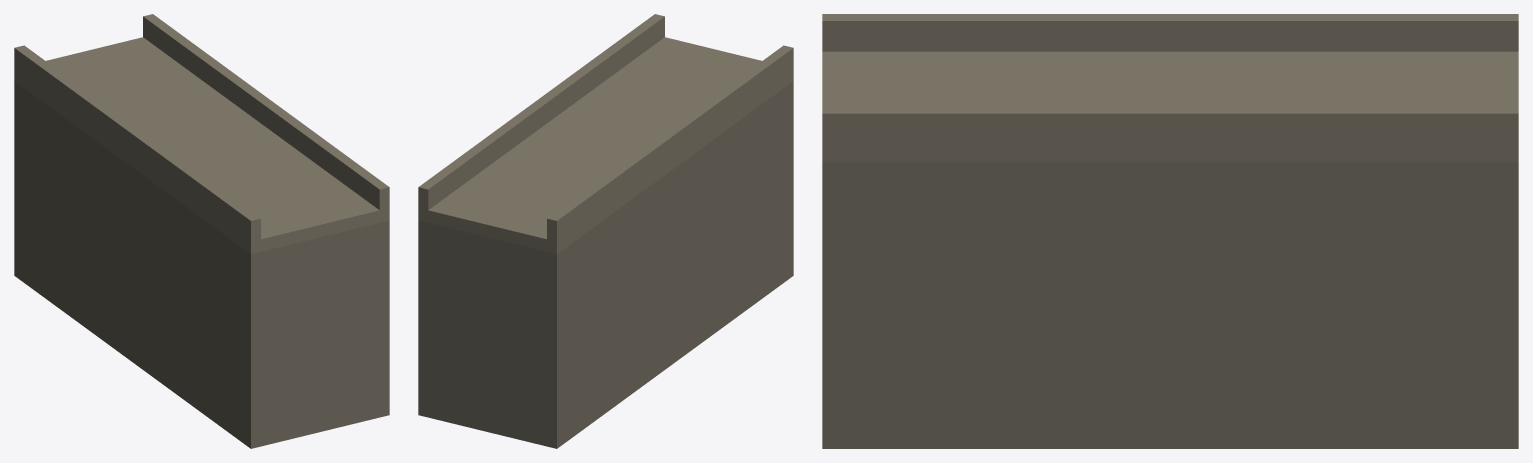
The model's file is fort-bridge.tone-v1.lod2.glb.
The picture shows the model from 3 angles, left to right: view 1: azimuth 30°, elevation 25°; view 2: azimuth 150°, elevation 25°; view 3: azimuth 270°, elevation 25°; orthographic projection. The views are drawn at different scales.
Visible parts, largest first — view 1: fort-bridge; view 2: fort-bridge; view 3: fort-bridge.
Part boxes in pixels (left/top/right/bottom): fort-bridge: left=14, top=14, right=389, bottom=448; fort-bridge: left=418, top=14, right=793, bottom=448; fort-bridge: left=822, top=14, right=1518, bottom=448.
Size of the model in its own units: 7 by 11 by 20.7.
